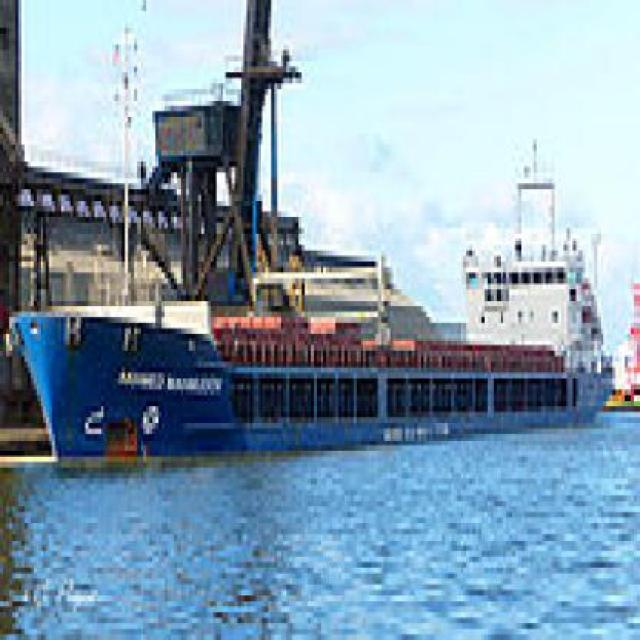container: (7, 207, 626, 486)
